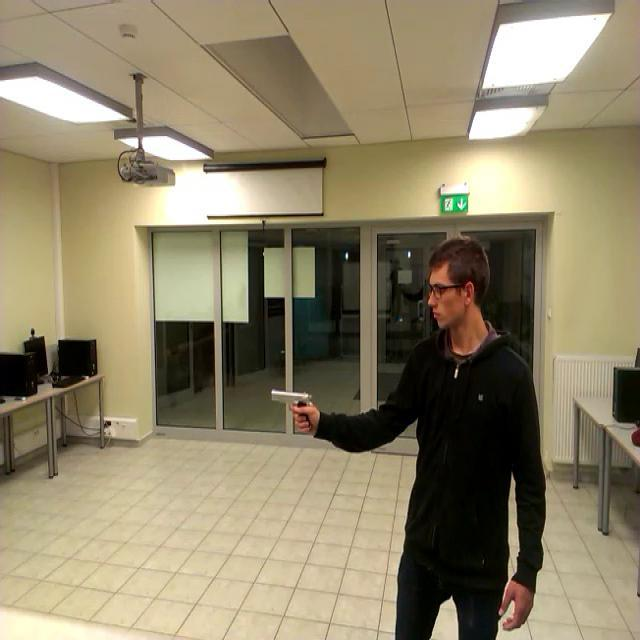Gun: (270, 388, 311, 427)
